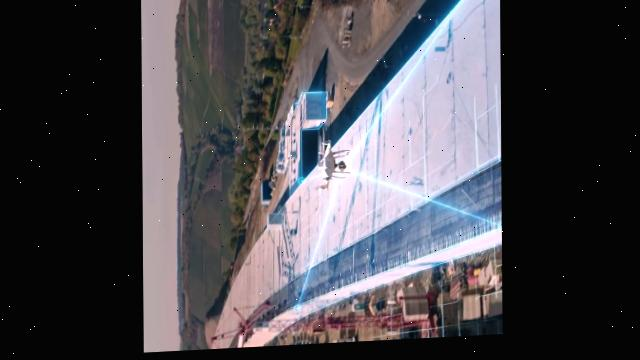drone: (313, 141, 349, 196)
